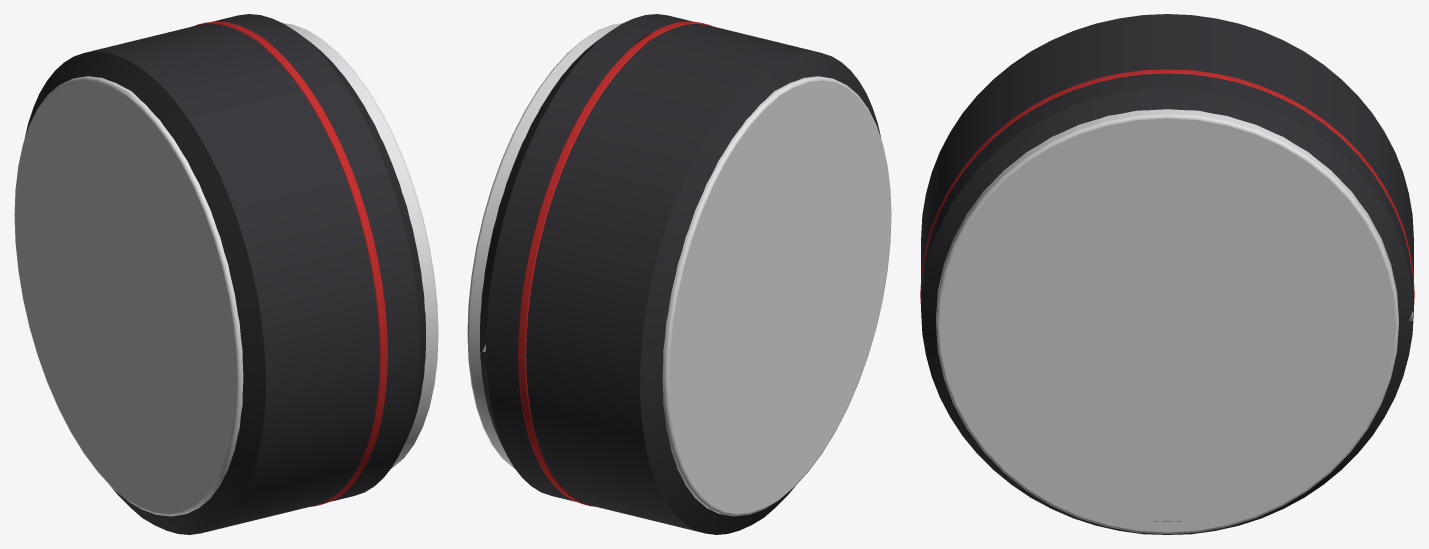
3 views of the same model, side by side, from view 1: azimuth 30°, elevation 25°; view 2: azimuth 150°, elevation 25°; view 3: azimuth 270°, elevation 25° (orthographic).
Visible parts, largest first — view 1: Adaptador PL-Z; view 2: Adaptador PL-Z; view 3: Adaptador PL-Z.
Boxes of the visible parts, x1,y1,x2,y2 form: Adaptador PL-Z: (14, 14, 438, 534); Adaptador PL-Z: (467, 14, 891, 534); Adaptador PL-Z: (920, 14, 1414, 534).
Bounding box in the file's own units: 0.0361 × 0.0781 × 0.0782.
